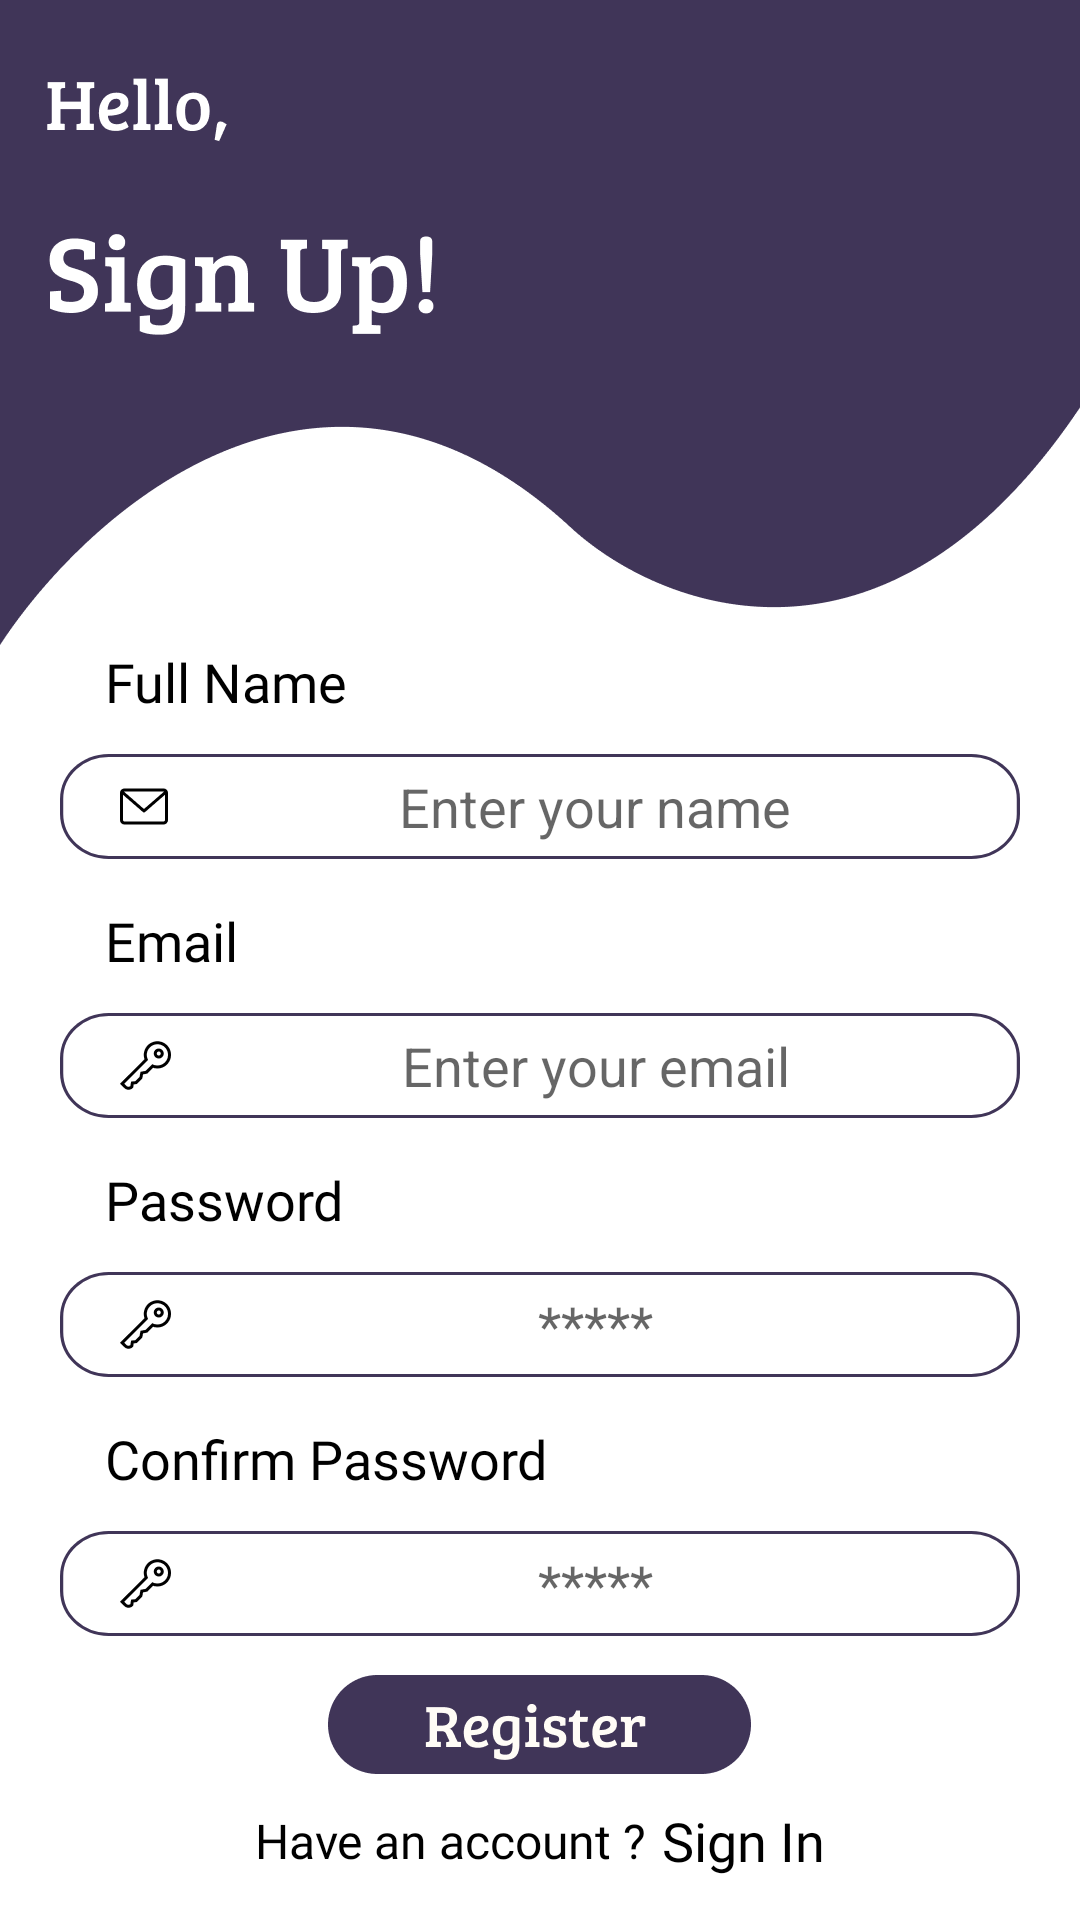

Where to tap for icons on this 1080w x 1920h app screen, as point (x, y):
key: point (145, 1065), point (145, 1324), point (145, 1583)
pesan: point (144, 806)
